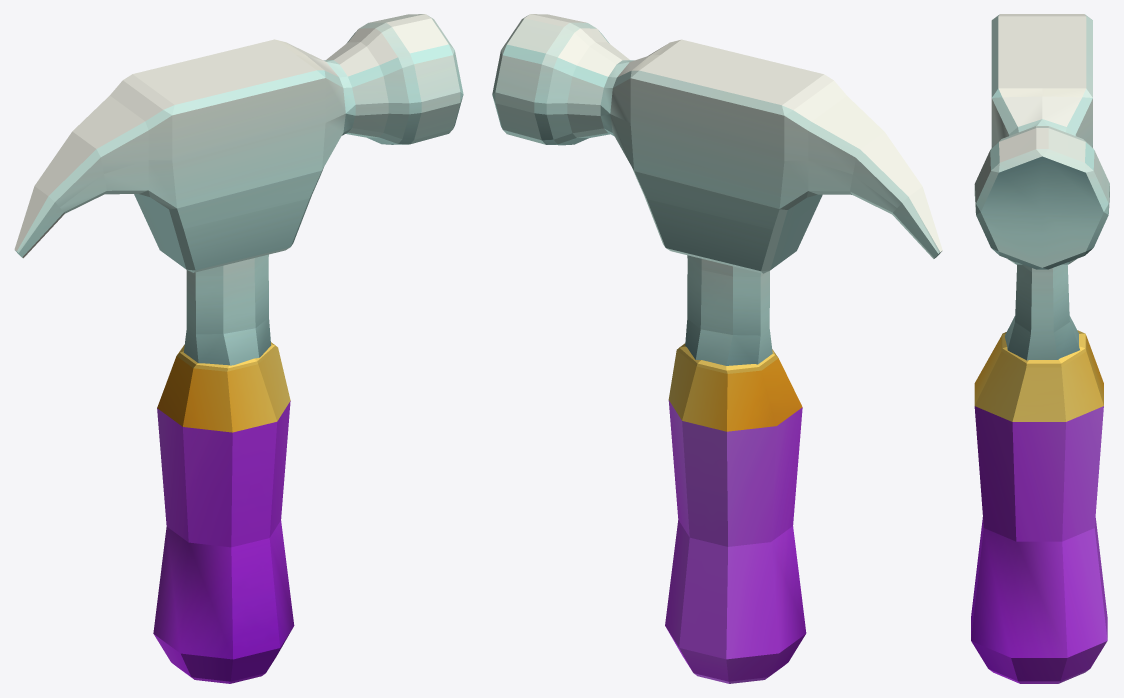
Rendered from Hammer.fbx.
The picture shows the model from 3 angles, left to right: view 1: azimuth 30°, elevation 25°; view 2: azimuth 150°, elevation 25°; view 3: azimuth 270°, elevation 25°; orthographic projection. The views are drawn at different scales.
Parts seen in each view (by area): view 1: Hammer; view 2: Hammer; view 3: Hammer.
Boxes of the visible parts, x1=… form: Hammer: x1=14, y1=14, x2=463, y2=683; Hammer: x1=492, y1=14, x2=942, y2=683; Hammer: x1=971, y1=14, x2=1109, y2=683.
Size of the model in its own units: 94.9 by 130 by 26.25.
Materials: 1 (1 with a texture image).
